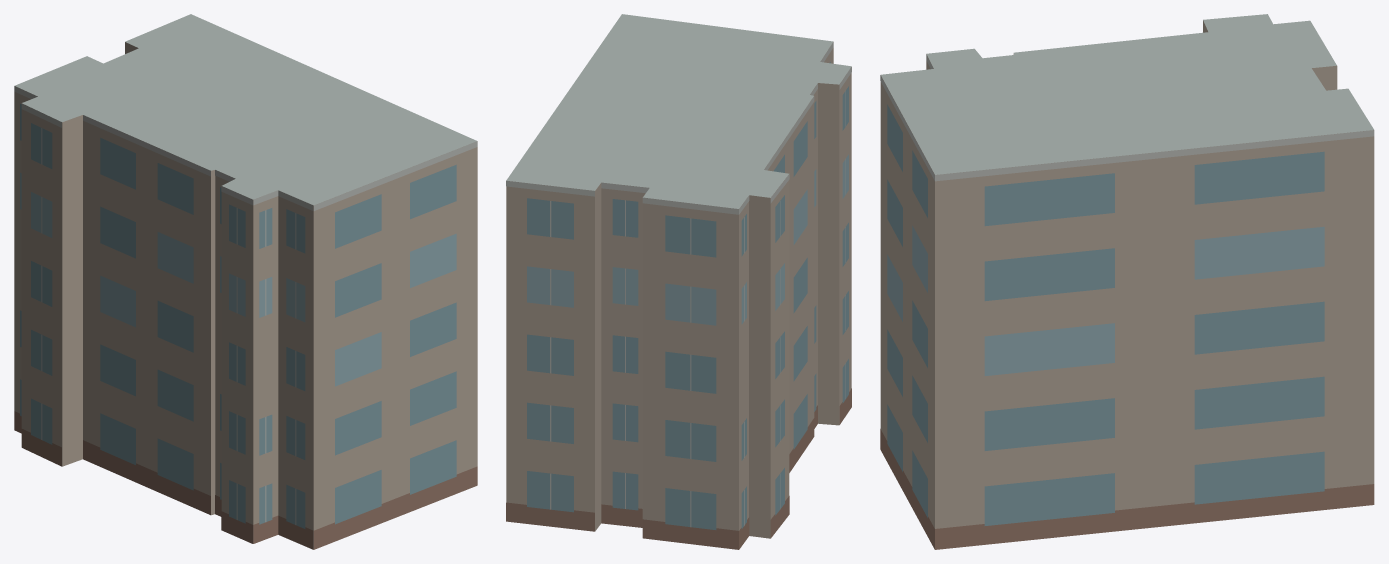
The model's file is survey-upis-32571633.glb.
The picture shows the model from 3 angles, left to right: view 1: azimuth 30°, elevation 25°; view 2: azimuth 150°, elevation 25°; view 3: azimuth 270°, elevation 25°; orthographic projection. The views are drawn at different scales.
Visible parts, largest first — view 1: survey-upis-32571633.tmp; view 2: survey-upis-32571633.tmp; view 3: survey-upis-32571633.tmp.
Part boxes in pixels (box(x1,y1,x2,y2)): survey-upis-32571633.tmp: box(14, 14, 477, 549); survey-upis-32571633.tmp: box(506, 14, 851, 549); survey-upis-32571633.tmp: box(880, 14, 1374, 549).
Bounding box in the file's own units: 13.27 × 14.4 × 17.2.
